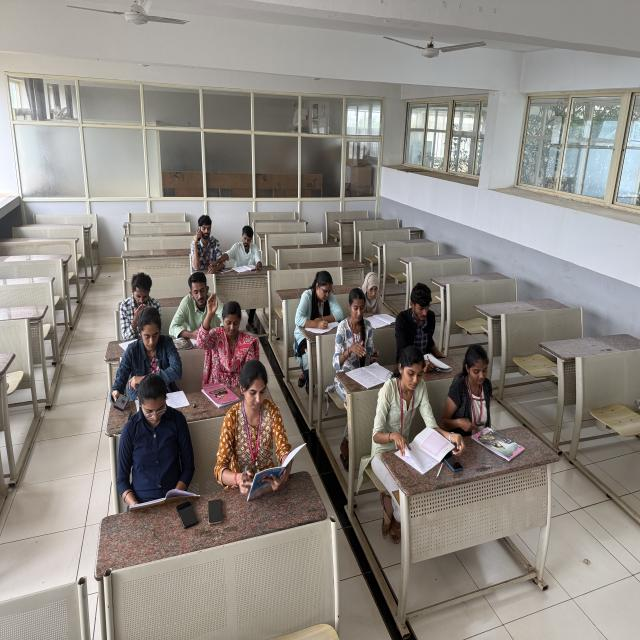Hand Rising: (194, 291, 256, 372)
Reading: (110, 377, 204, 507), (213, 361, 307, 486), (370, 342, 446, 458), (331, 287, 391, 389), (355, 268, 394, 326), (229, 226, 266, 276)
Using Phone: (108, 306, 182, 408), (174, 272, 227, 342), (191, 212, 223, 270)
Writing: (396, 284, 450, 374), (293, 269, 343, 341)
